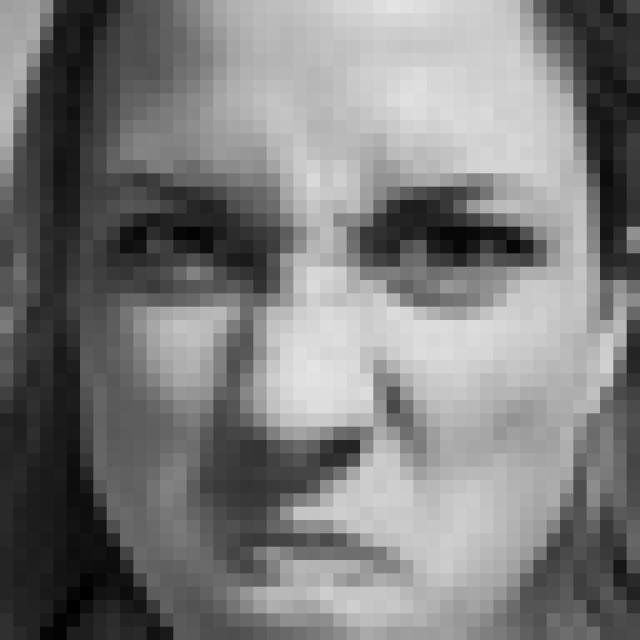angry: (74, 123, 560, 607)
